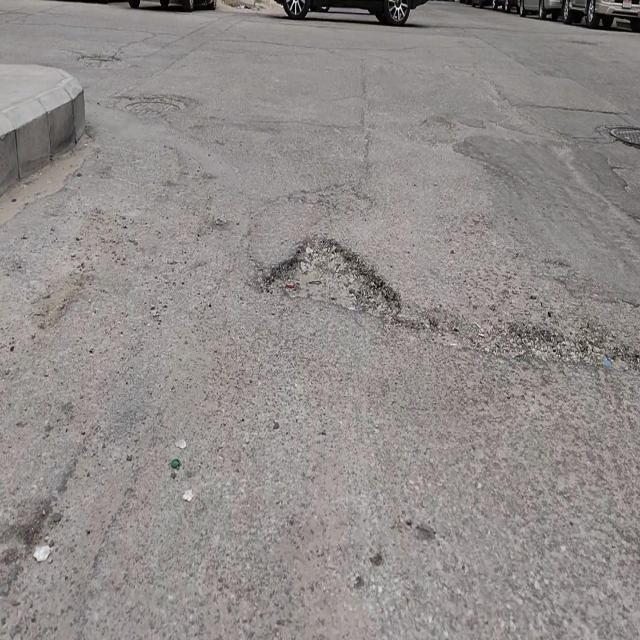Pothole: (269, 241, 397, 317)
